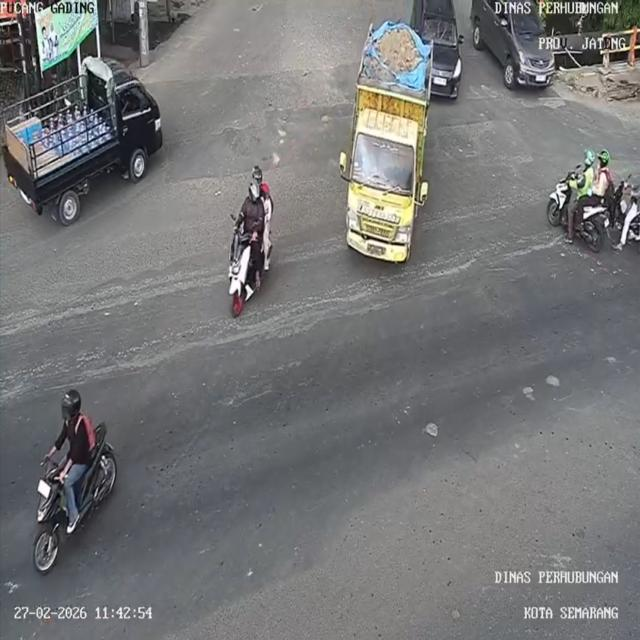motorcycle: (22, 426, 118, 578), (223, 215, 274, 316), (549, 179, 613, 250)
person: (51, 381, 98, 488), (250, 168, 276, 240), (238, 179, 268, 240), (594, 146, 614, 205), (573, 149, 594, 199)
rider_region: (31, 392, 118, 574), (544, 145, 618, 259), (226, 167, 278, 321)
